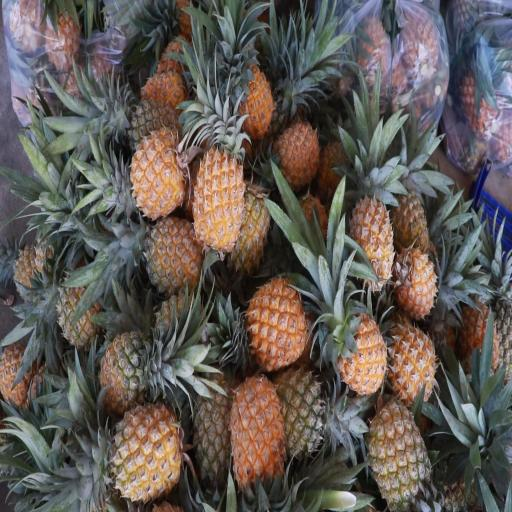------------------------------: (364, 385, 432, 512), (188, 348, 240, 489), (260, 354, 330, 450), (93, 329, 171, 415), (53, 262, 104, 357)
Pineapple - v8 v1: (102, 396, 184, 508), (224, 360, 283, 494), (240, 265, 306, 369), (194, 128, 246, 253), (127, 124, 190, 225), (134, 207, 204, 296), (347, 170, 396, 292), (332, 298, 390, 401), (226, 154, 272, 268), (383, 314, 435, 412), (266, 105, 320, 188), (385, 166, 430, 259), (386, 237, 436, 319), (232, 56, 274, 140)
